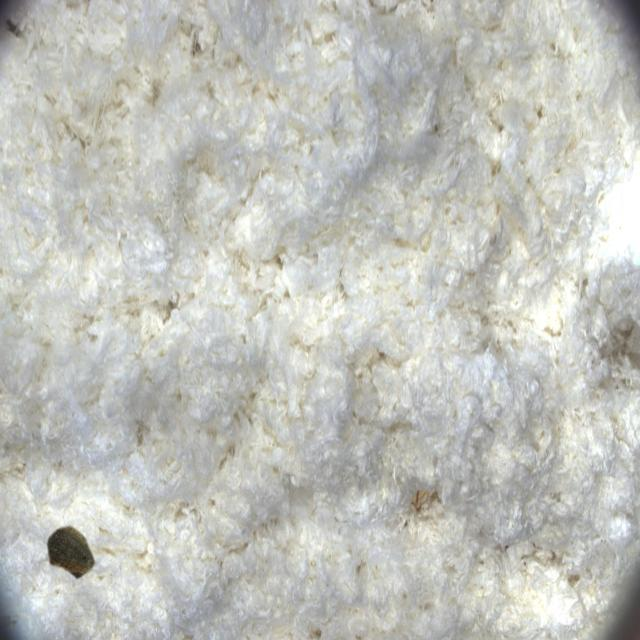dust: (34, 497, 121, 613)
